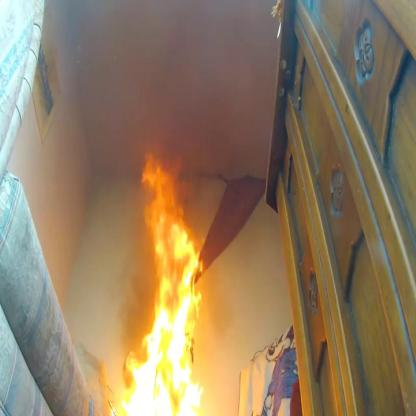fire: (116, 149, 209, 416)
